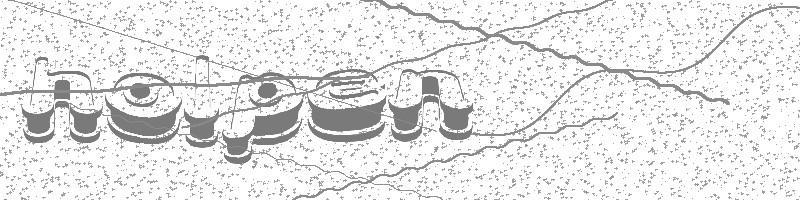e: (308, 69, 386, 141)
h: (23, 57, 102, 142)
l: (185, 55, 219, 148)
n: (389, 69, 473, 142)
o: (106, 73, 181, 143)
p: (224, 73, 303, 164)
